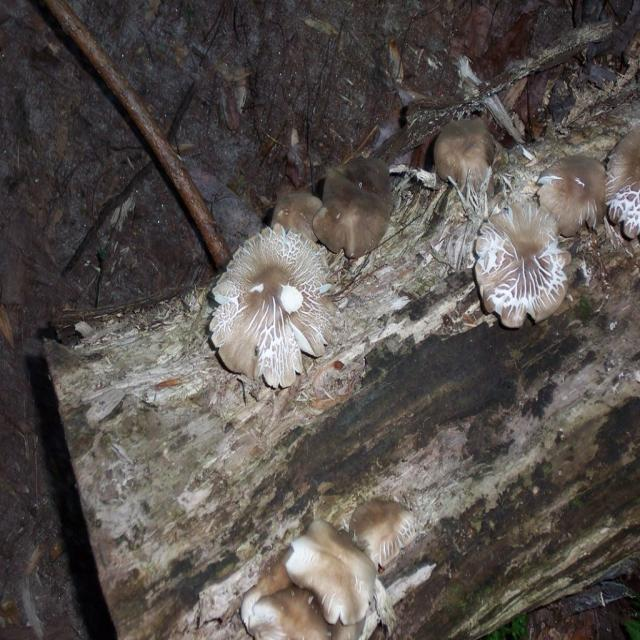Mushroom: (473, 128, 640, 328), (240, 496, 420, 640), (205, 232, 328, 418), (268, 152, 397, 260), (433, 116, 498, 196)
